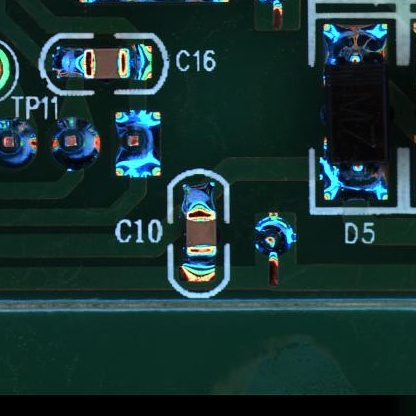spot: (113, 109, 164, 179), (49, 115, 101, 171), (255, 211, 296, 260), (1, 118, 38, 169)
